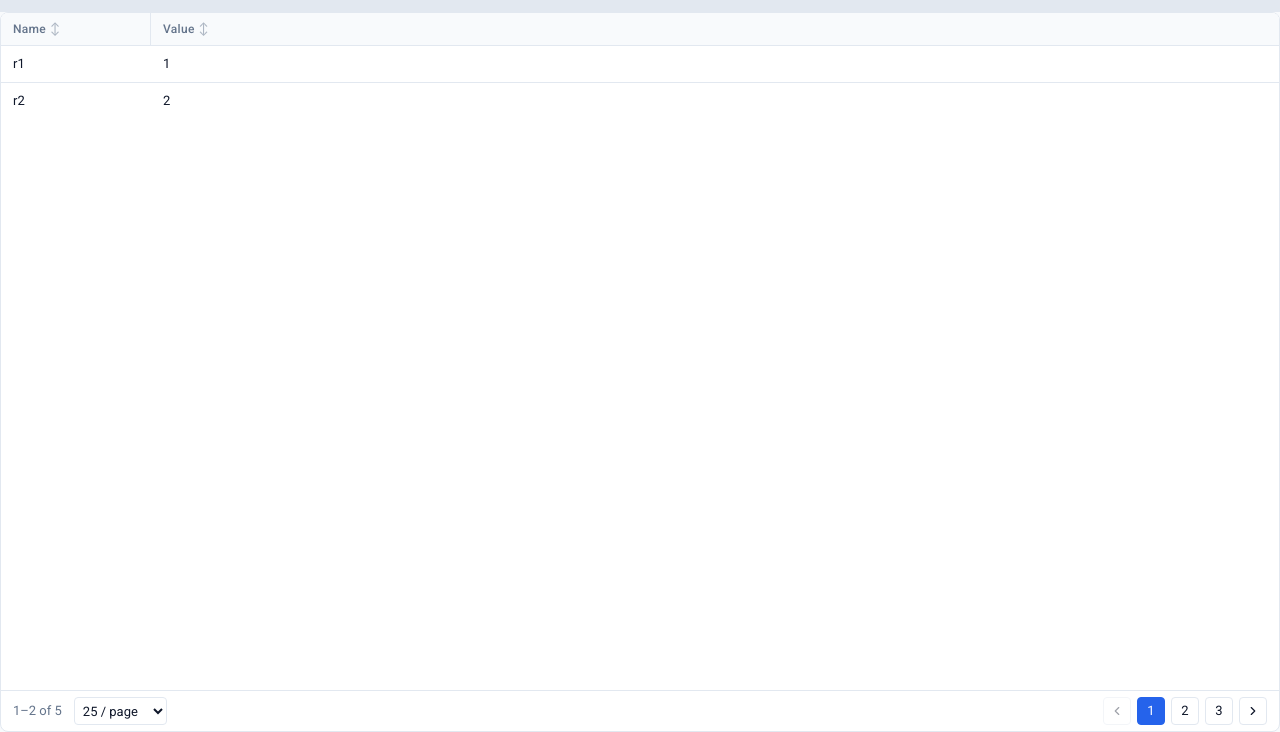
Test: DataTable contracts › manual pagination: footer navigates pages and shows sliced server data
The width and height of the screenshot is (1280, 732).
Expected: the text "r1" is shown, 13,54 -> 25,74
Expected: the text "r2" is shown, 13,91 -> 25,111
Click the button named "Next page" at x=1253, y=711, box 1239,697 -> 1267,725
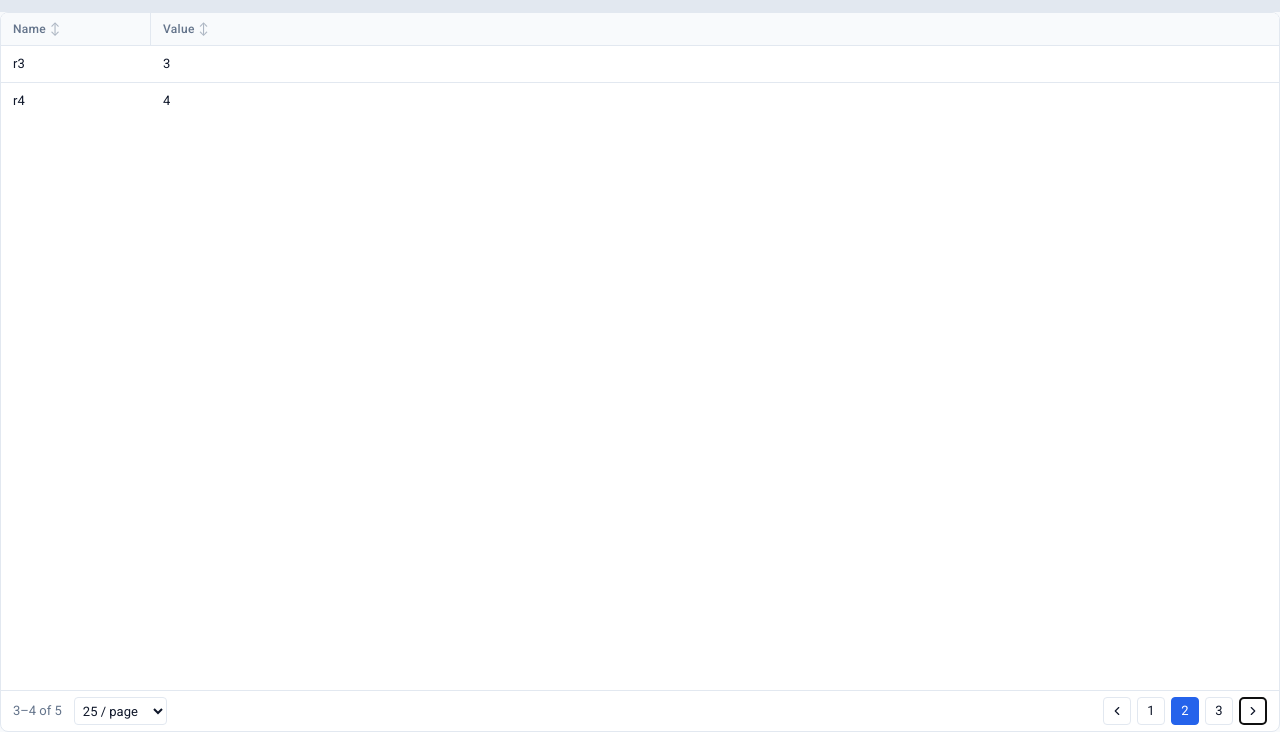
Expected: the text "r3" is shown, 13,54 -> 25,74
Expected: the text "r4" is shown, 13,91 -> 25,111
